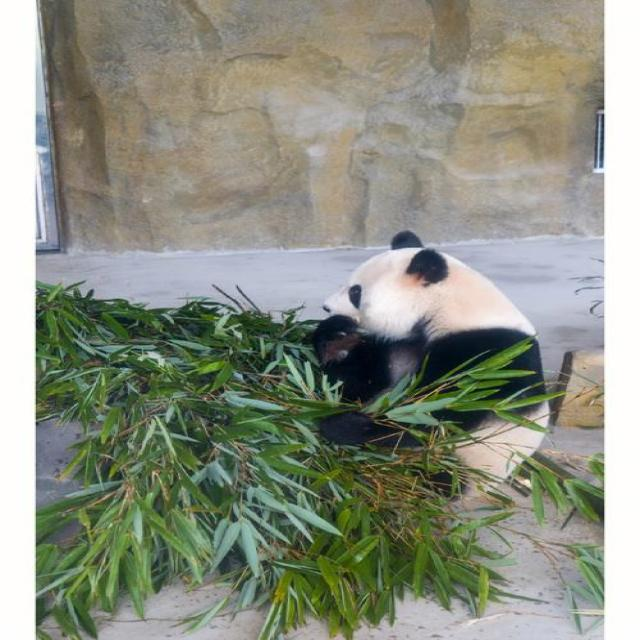panda: (288, 222, 554, 526)
